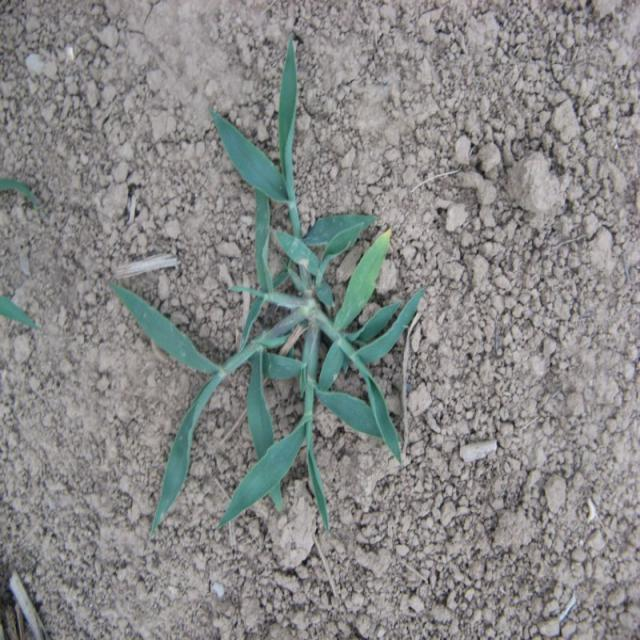bg: (110, 41, 426, 522)
